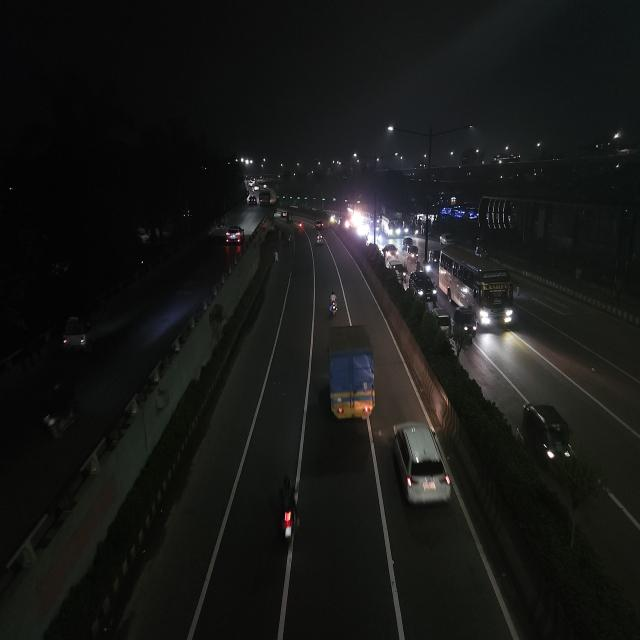bus: (438, 246, 518, 330), (382, 214, 405, 239)
car: (387, 417, 456, 523), (518, 396, 581, 474), (61, 316, 96, 357), (407, 270, 439, 307), (425, 304, 453, 338), (224, 224, 244, 247), (382, 242, 399, 263), (439, 232, 451, 246), (248, 195, 257, 207)
cng: (451, 304, 479, 342), (429, 247, 439, 266), (408, 245, 419, 261), (316, 232, 324, 248)
motorcycle: (272, 469, 300, 548), (324, 289, 340, 320), (296, 220, 304, 232), (264, 216, 270, 230)
pedestrian: (270, 248, 280, 267)
truck: (324, 322, 382, 430)
